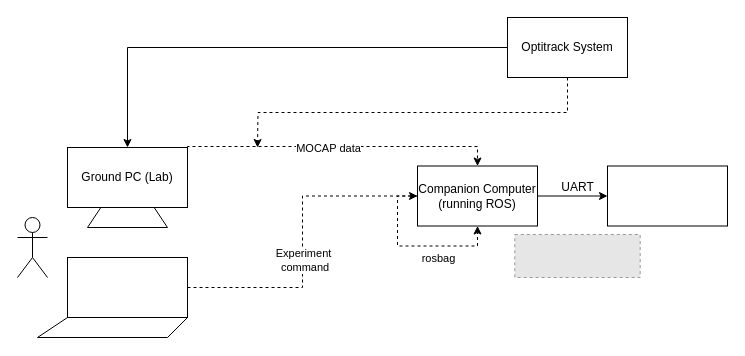
Some shapes in this 745 by 356 pixel diagram are drawn without their labels. Grey dashed boxes stand in for pictures. The centre of each missing label's shape, as x and y in pixels:
Ground Laptop: point (127, 287)
Pixhawk (running PX4): point (667, 195)
